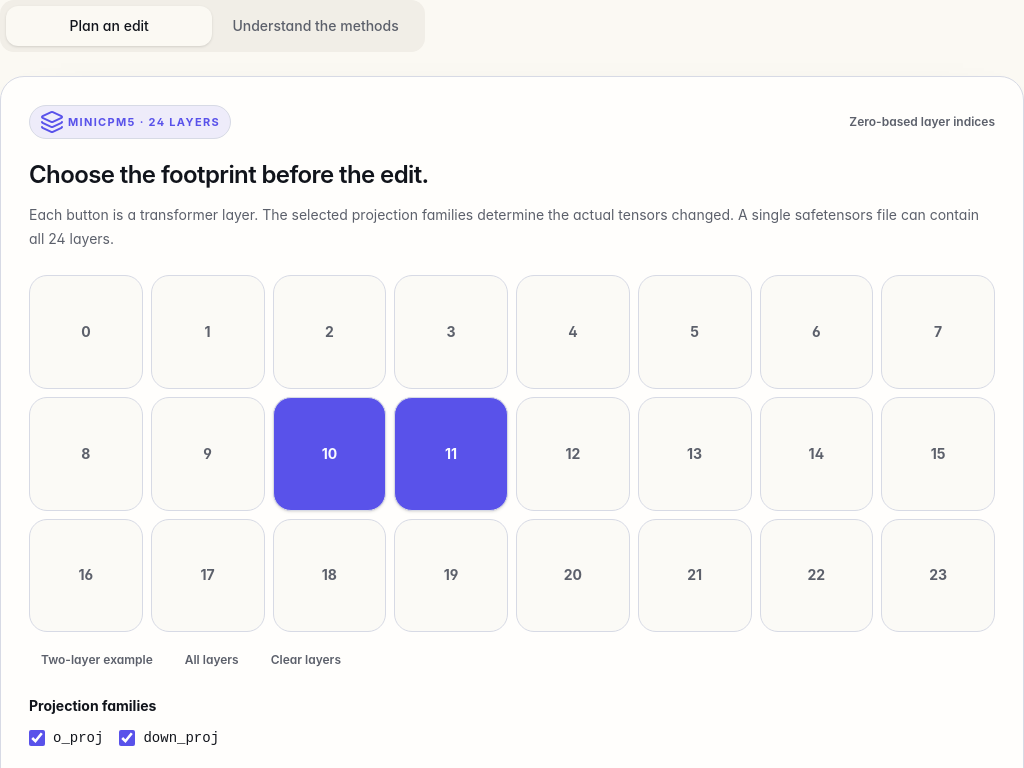
Test case: selective research controls › labels paper references separately from implemented methods
Click the tab "Understand the methods": x=316, y=26 top-left (212, 6), bottom-right (419, 46)
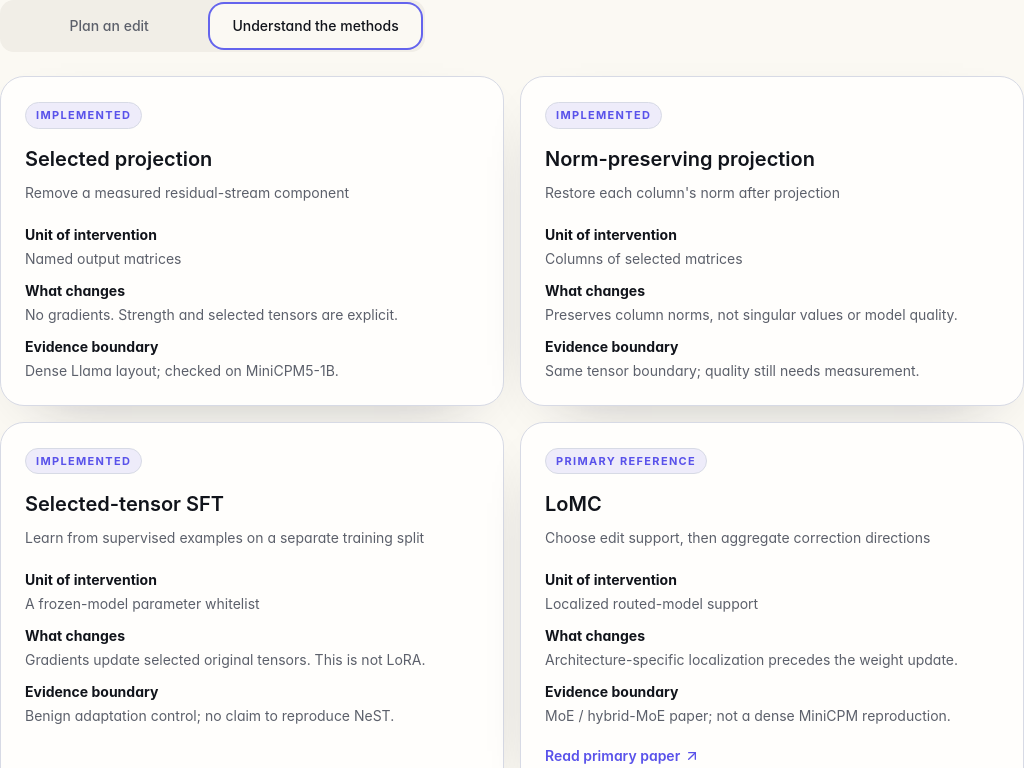
expect the heading "LoMC" is shown: met, box top-left (545, 492), bottom-right (602, 516)
expect the text "MoE / hybrid-MoE paper; not a dense MiniCPM reproduction." is shown: met, box top-left (545, 706), bottom-right (999, 726)
expect the text "This is not LoRA" is shown: met, box top-left (25, 651), bottom-right (426, 668)
